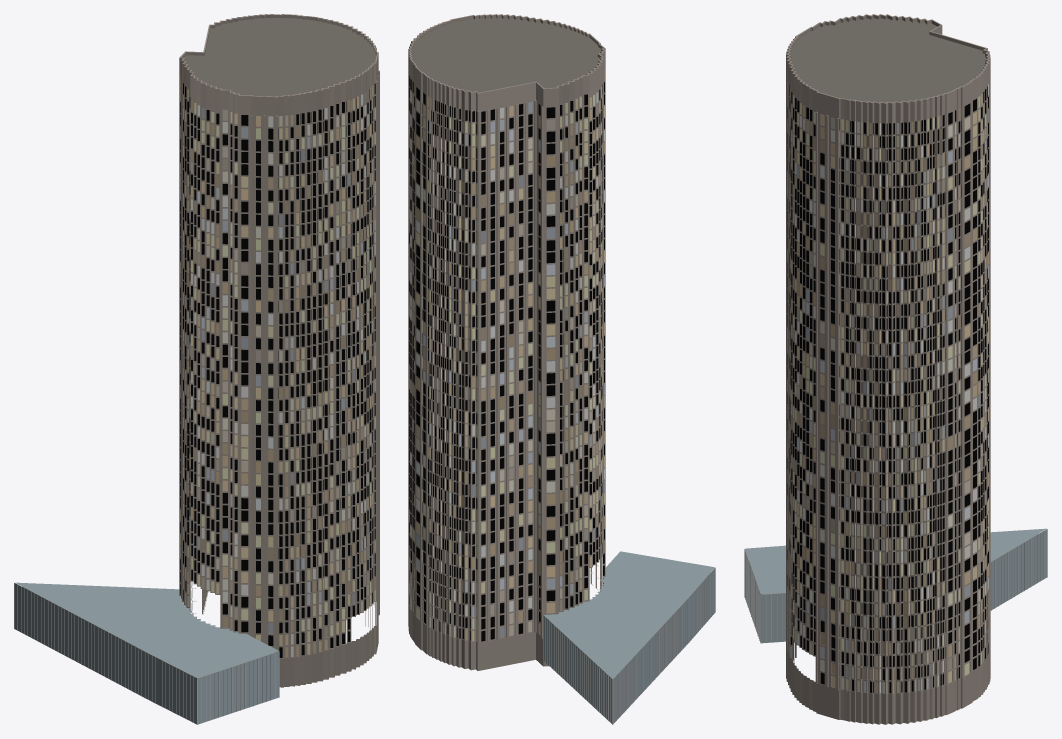
3 renders of one model, left to right at view 1: azimuth 30°, elevation 25°; view 2: azimuth 150°, elevation 25°; view 3: azimuth 270°, elevation 25°, orthographic. The views are drawn at different scales.
Parts seen in each view (by area): view 1: L0_granite, L0_win, L0_glassc, L0_roof, L0_metal; view 2: L0_granite, L0_win, L0_glassc, L0_roof, L0_metal; view 3: L0_granite, L0_win, L0_roof, L0_glassc, L0_metal.
Boxes of the visible parts, bbox=[...] form: L0_granite: bbox=[179, 14, 379, 687]; L0_win: bbox=[23, 74, 378, 678]; L0_glassc: bbox=[14, 582, 279, 724]; L0_roof: bbox=[184, 17, 376, 96]; L0_metal: bbox=[14, 583, 279, 724]; L0_granite: bbox=[408, 14, 605, 670]; L0_win: bbox=[409, 70, 710, 679]; L0_glassc: bbox=[543, 551, 715, 723]; L0_roof: bbox=[411, 18, 600, 92]; L0_metal: bbox=[543, 568, 715, 724]; L0_granite: bbox=[786, 14, 990, 724]; L0_win: bbox=[753, 81, 1038, 693]; L0_roof: bbox=[791, 18, 985, 102]; L0_glassc: bbox=[745, 528, 1046, 643]; L0_metal: bbox=[744, 529, 1047, 643].
Size of the model in its own units: 90.81 by 186 by 82.5.
